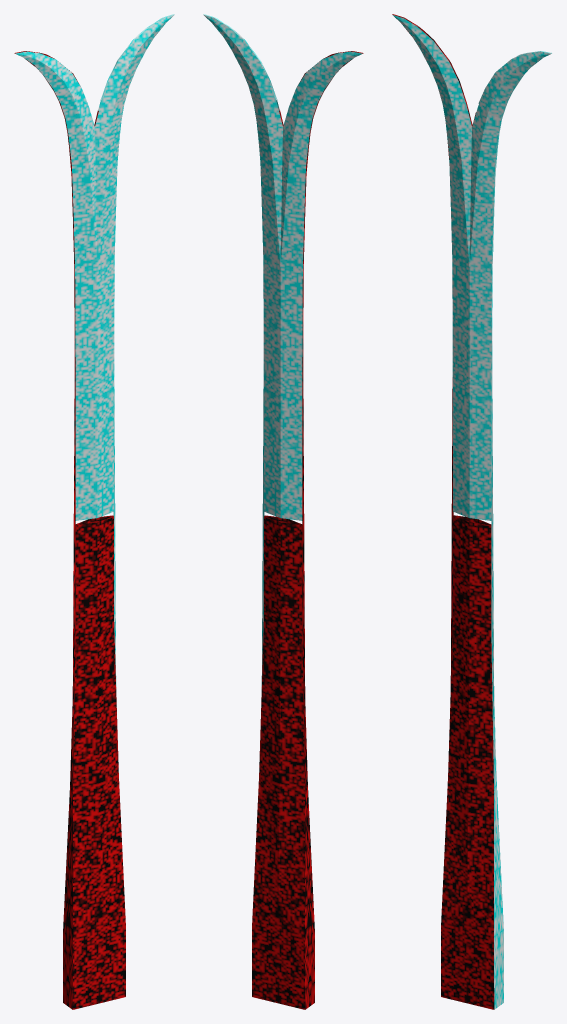
File: SM_BaptistEnforce_Sword_01_KJS.fbx
The picture shows the model from 3 angles, left to right: view 1: azimuth 30°, elevation 25°; view 2: azimuth 150°, elevation 25°; view 3: azimuth 330°, elevation 25°; orthographic projection.
Visible parts, largest first — view 1: SM_BaptistEnforce_Sword_01_KJS; view 2: SM_BaptistEnforce_Sword_01_KJS; view 3: SM_BaptistEnforce_Sword_01_KJS.
Part boxes in pixels (left/top/right/bottom): SM_BaptistEnforce_Sword_01_KJS: left=14, top=14, right=174, bottom=1009; SM_BaptistEnforce_Sword_01_KJS: left=203, top=14, right=363, bottom=1009; SM_BaptistEnforce_Sword_01_KJS: left=392, top=14, right=552, bottom=1009.
Bounding box in the file's own units: 15.91 × 91.75 × 1.72.
